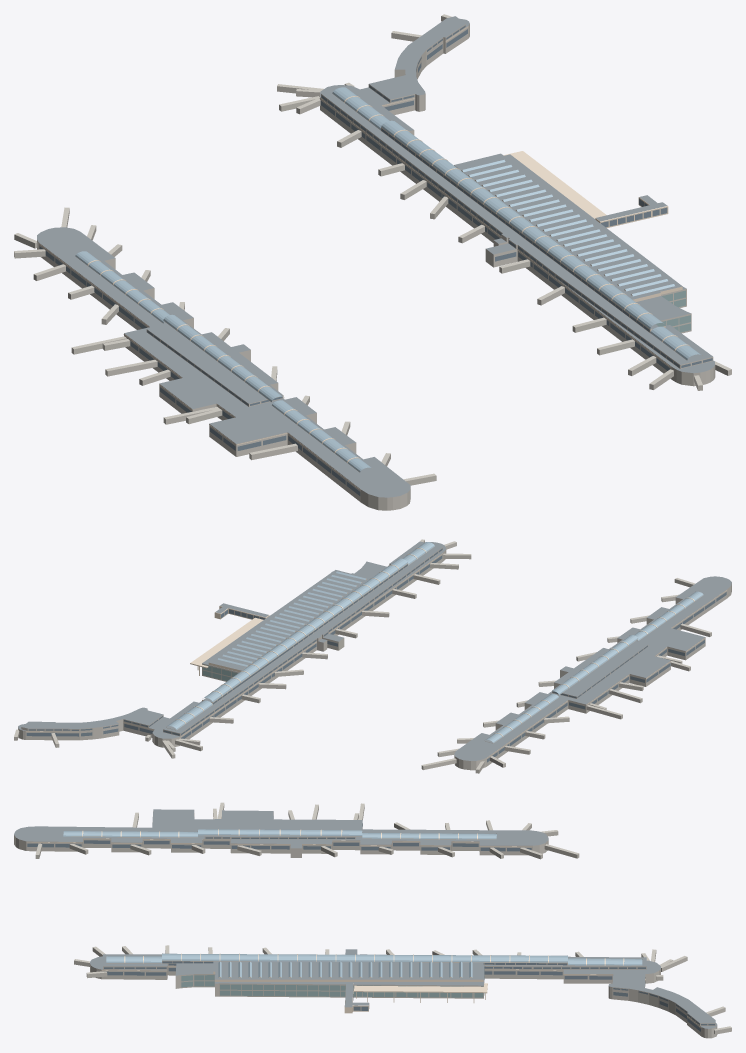
Rendered from chi-ohare-terminal-1.glb.
3 views of the same model, one above another, from view 1: azimuth 30°, elevation 25°; view 2: azimuth 150°, elevation 25°; view 3: azimuth 270°, elevation 25° (orthographic). The views are drawn at different scales.
Parts seen in each view (by area): view 1: O'Hare Terminal 1; view 2: O'Hare Terminal 1; view 3: O'Hare Terminal 1.
Boxes of the visible parts, x1,y1,x2,y2 form: O'Hare Terminal 1: (14,14,731,510); O'Hare Terminal 1: (14,539,731,773); O'Hare Terminal 1: (14,802,731,1038).
Size of the model in its own units: 494 by 19.2 by 656.
